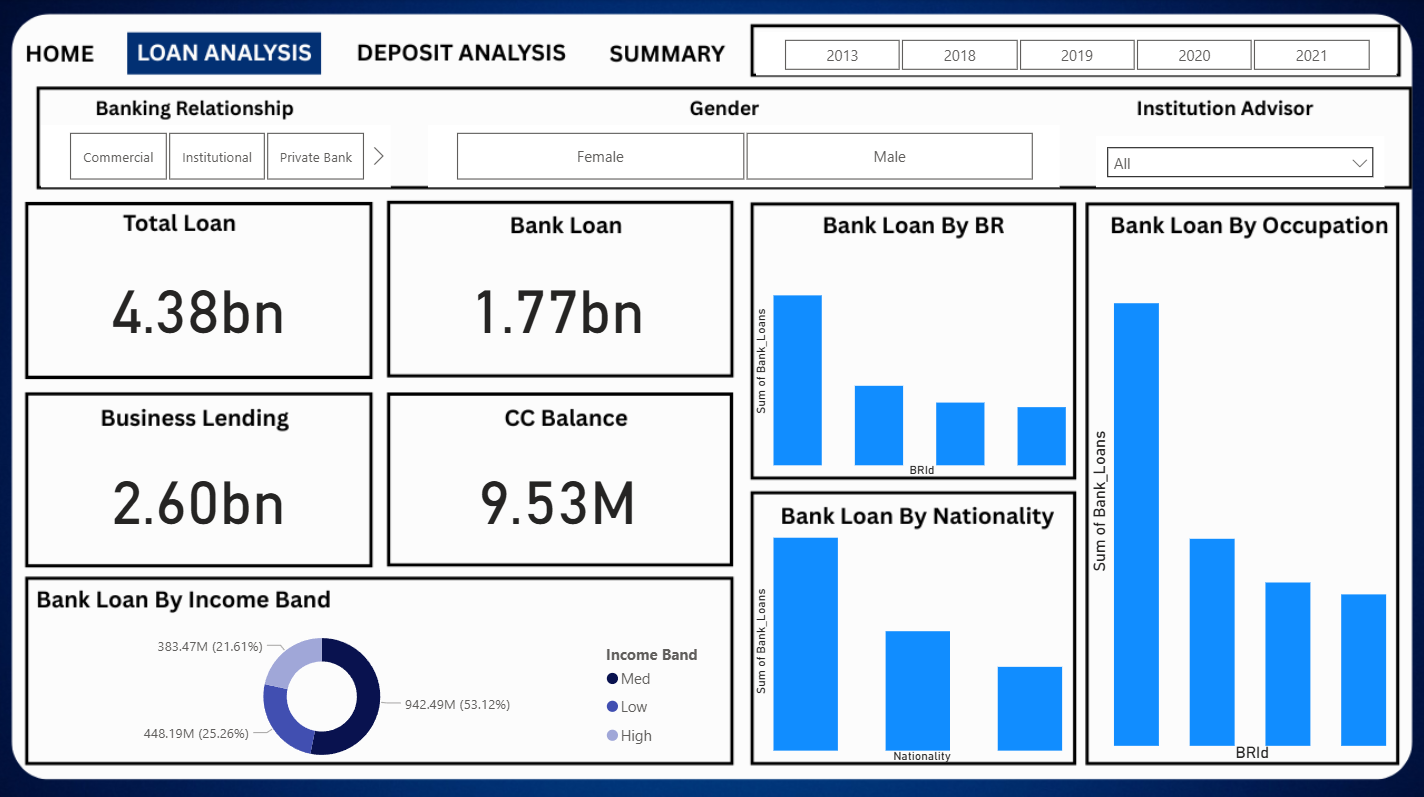

This screenshot's page, from the dashboard's own definition file:
{"tool":"powerbi","page":{"name":"Loan Analysis","canvas":[1280,720],"ordinal":2},"visuals":[{"type":"slicer","fields":{"Values":["banking.year of joining"]},"box":[679.6,29.6,574.6,38.6],"z":0},{"type":"actionButton","box":[317.8,29.6,194.8,40.4],"z":1000},{"type":"actionButton","box":[546.7,27.8,109.5,40.4],"z":2000},{"type":"actionButton","box":[19.8,27.8,73.6,40.4],"z":3000},{"type":"card","fields":{"Values":["banking.total loan"]},"box":[29.6,231.6,298.1,85.3],"z":4000},{"type":"card","fields":{"Values":["Sum(banking.Bank_Loans)"]},"box":[351.9,231.6,298.1,85.3],"z":5000},{"type":"card","fields":{"Values":["Sum(banking.Business_Lending)"]},"box":[29.6,403.1,298.1,85.3],"z":6000},{"type":"card","fields":{"Values":["Sum(banking.Credit_Card_Balance)"]},"box":[351.9,403.1,298.1,85.3],"z":7000},{"type":"donutChart","fields":{"Category":["banking.Income Band"],"Y":["Sum(banking.Bank_Loans)"]},"box":[29.6,554.8,620.3,142.7],"z":8000},{"type":"clusteredColumnChart","fields":{"Category":["banking.BRId"],"Y":["Sum(banking.Bank_Loans)"]},"box":[673.3,217.3,293.6,216.4],"z":9000},{"type":"clusteredColumnChart","fields":{"Category":["banking.Nationality"],"Y":["Sum(banking.Bank_Loans)"]},"box":[673.1,464,293.7,225.7],"z":10000},{"type":"slicer","fields":{"Values":["banking.BRId"]},"box":[37.7,113.1,314.2,55.7],"z":11000},{"type":"slicer","fields":{"Values":["banking.GenderId"]},"box":[385.1,113.1,567.4,55.7],"z":12000},{"type":"slicer","fields":{"Values":["banking.IAId"]},"box":[984.8,123,259.5,45.8],"z":12001},{"type":"clusteredColumnChart","fields":{"Category":["banking.BRId"],"Y":["Sum(banking.Bank_Loans)"]},"box":[975,217.3,279.2,472.2],"z":12002}]}

Visuals, with their boxes in screenshot pixels (x1, y1, x2, y2), scaled from the page's 1280x720 canvas onto the 1424x797 screenshot:
slicer - banking.year of joining: 756, 33, 1395, 75
actionButton: 354, 33, 570, 77
actionButton: 608, 31, 730, 75
actionButton: 22, 31, 104, 75
card - banking.total loan: 33, 256, 365, 351
card - Sum(banking.Bank_Loans): 391, 256, 723, 351
card - Sum(banking.Business_Lending): 33, 446, 365, 541
card - Sum(banking.Credit_Card_Balance): 391, 446, 723, 541
donutChart - banking.Income Band x Sum(banking.Bank_Loans): 33, 614, 723, 772
clusteredColumnChart - banking.BRId x Sum(banking.Bank_Loans): 749, 241, 1076, 480
clusteredColumnChart - banking.Nationality x Sum(banking.Bank_Loans): 749, 514, 1076, 763
slicer - banking.BRId: 42, 125, 391, 187
slicer - banking.GenderId: 428, 125, 1060, 187
slicer - banking.IAId: 1096, 136, 1384, 187
clusteredColumnChart - banking.BRId x Sum(banking.Bank_Loans): 1085, 241, 1395, 763
